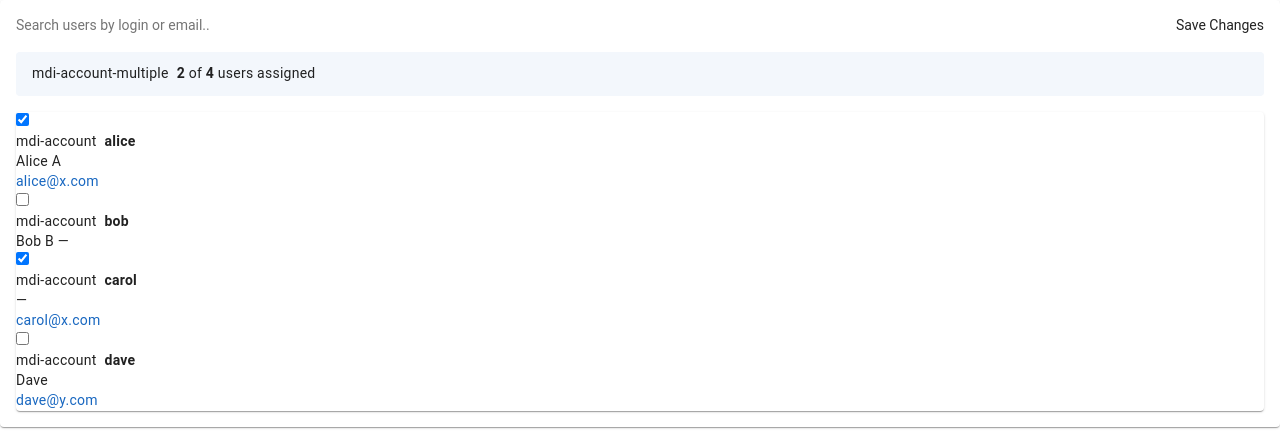
Scenario: RoleUsersTab interactions › filters by debounced search query
Type "carol" into the field with class "stub-textfield".
click(112, 26); type("carol")  # box top-left (16, 16), bottom-right (209, 36)
Wait 400 ms
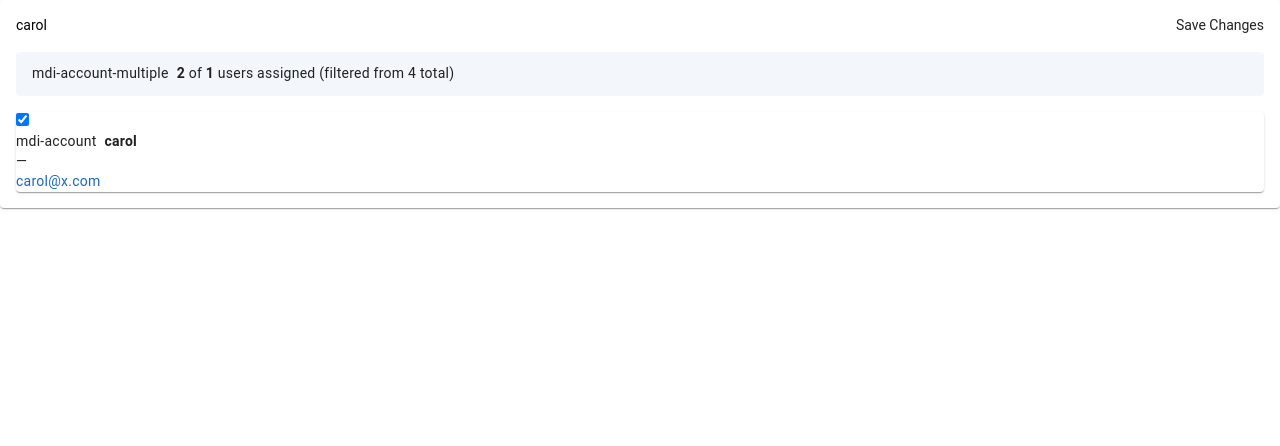
Expected: the text "carol" is shown, top-left (104, 132), bottom-right (137, 152)
Now the text "alice" is gone
